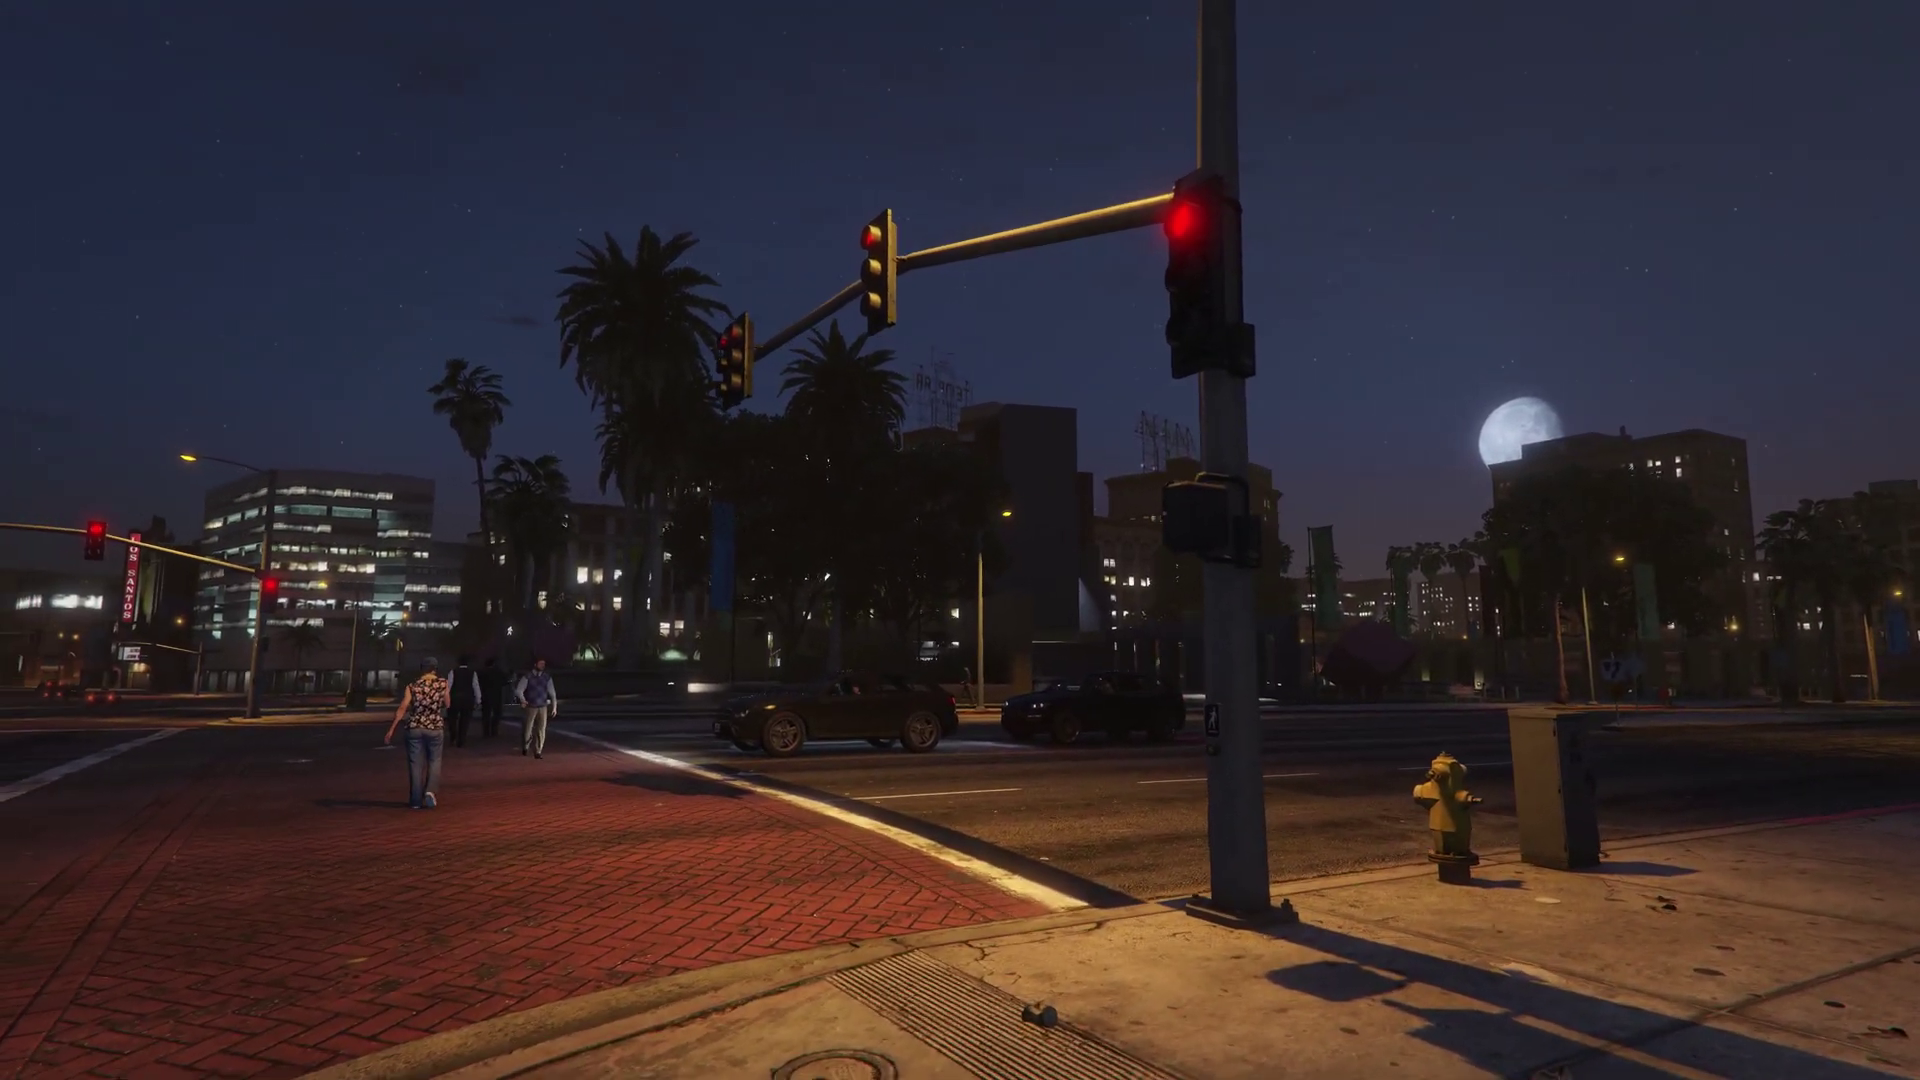car: (714, 667, 961, 754), (1002, 669, 1187, 746)
person: (386, 655, 449, 811), (516, 658, 559, 753), (446, 656, 481, 741), (478, 658, 508, 733)
traffic light: (1160, 168, 1227, 378), (1157, 474, 1240, 556), (861, 209, 898, 333), (714, 315, 750, 407), (84, 521, 103, 564), (262, 578, 278, 615)
